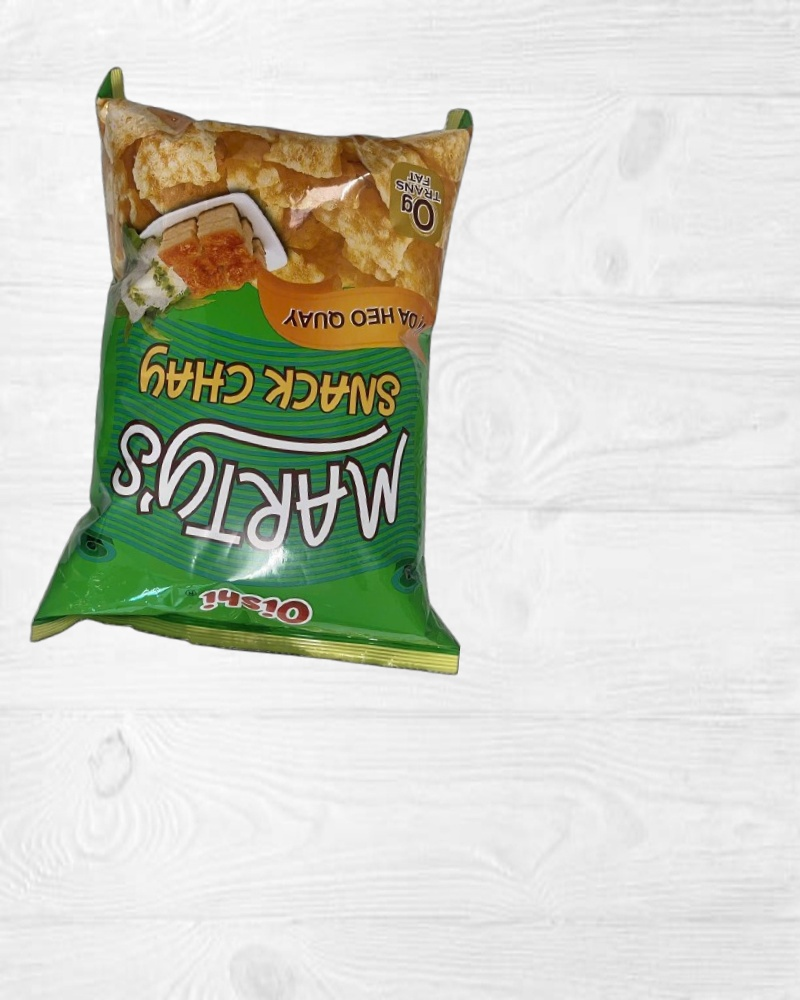Snack chay: (51, 68, 507, 680)
